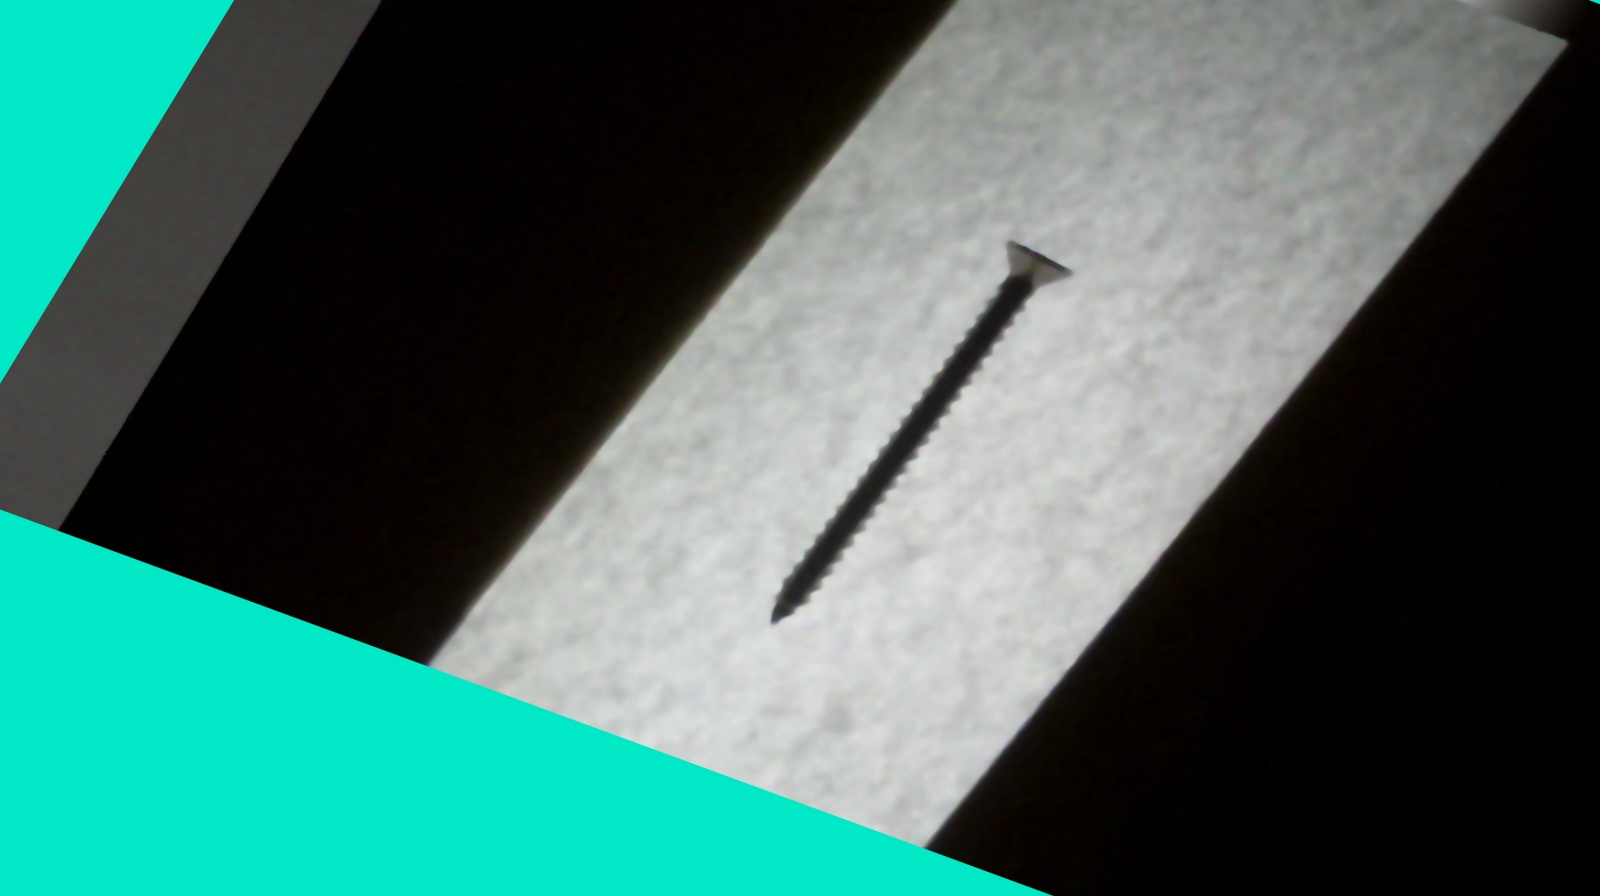S002: (738, 207, 1108, 664)
